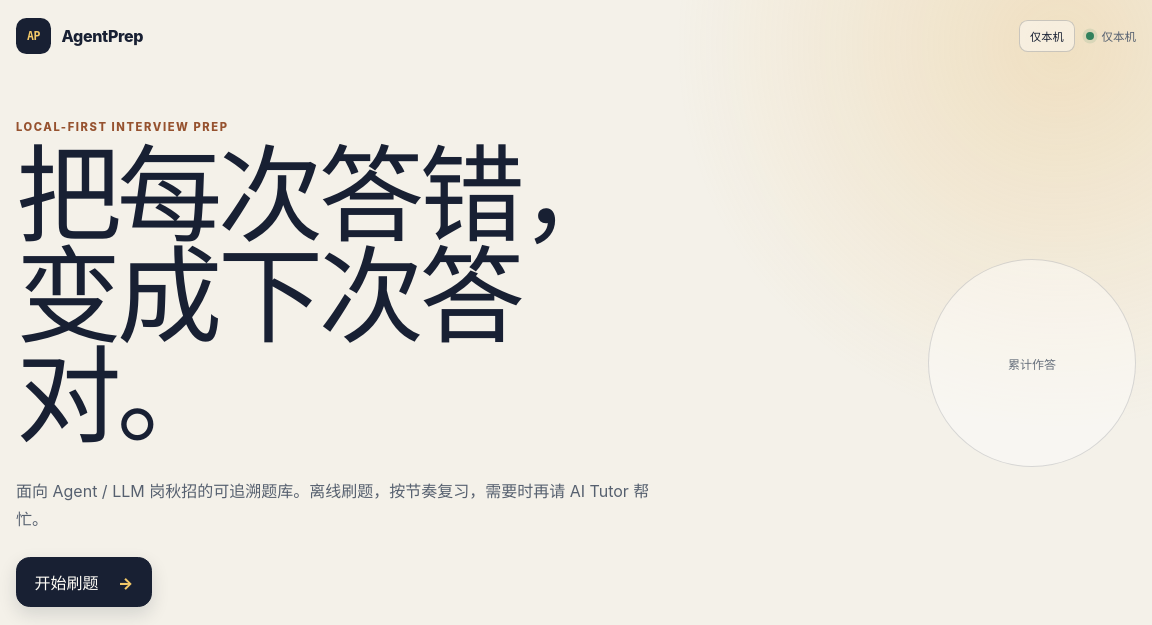
App › uses centralized Chinese taxonomy labels in selection and sessions
Click the button "开始刷题 →" at (84, 582), box [16,556,152,607]
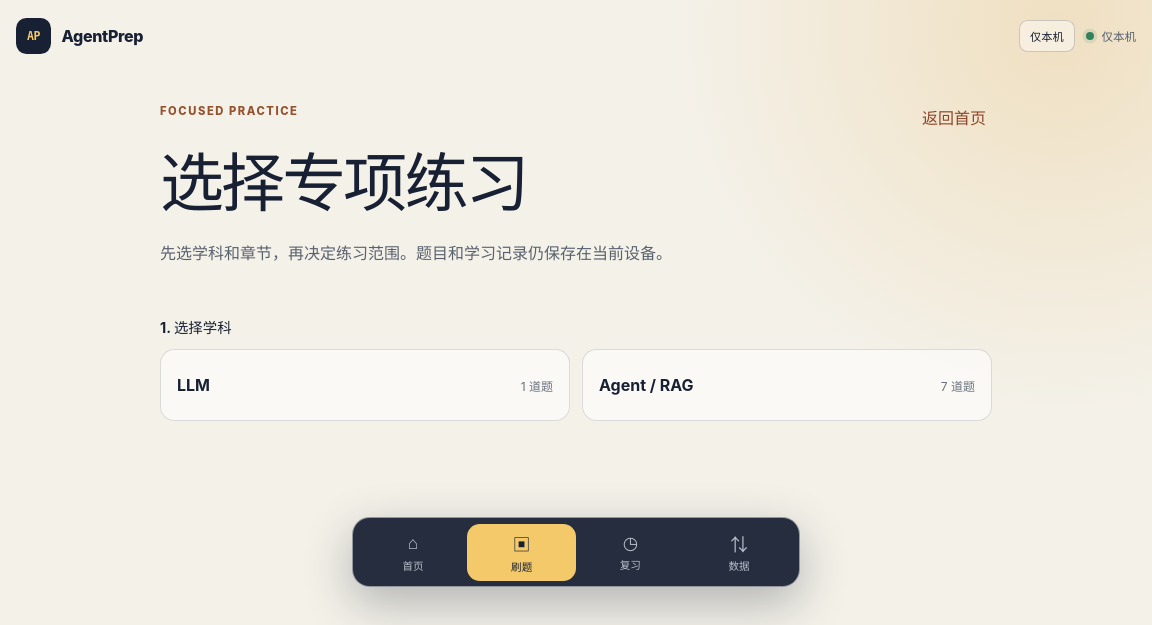
Result: the button "Agent / RAG 7 道题" is shown
Result: the button "LLM 1 道题" is shown at [160,349,570,421]
Click the button "Agent / RAG 7 道题" at (646, 385), box [582,349,992,421]
(page scrolled)
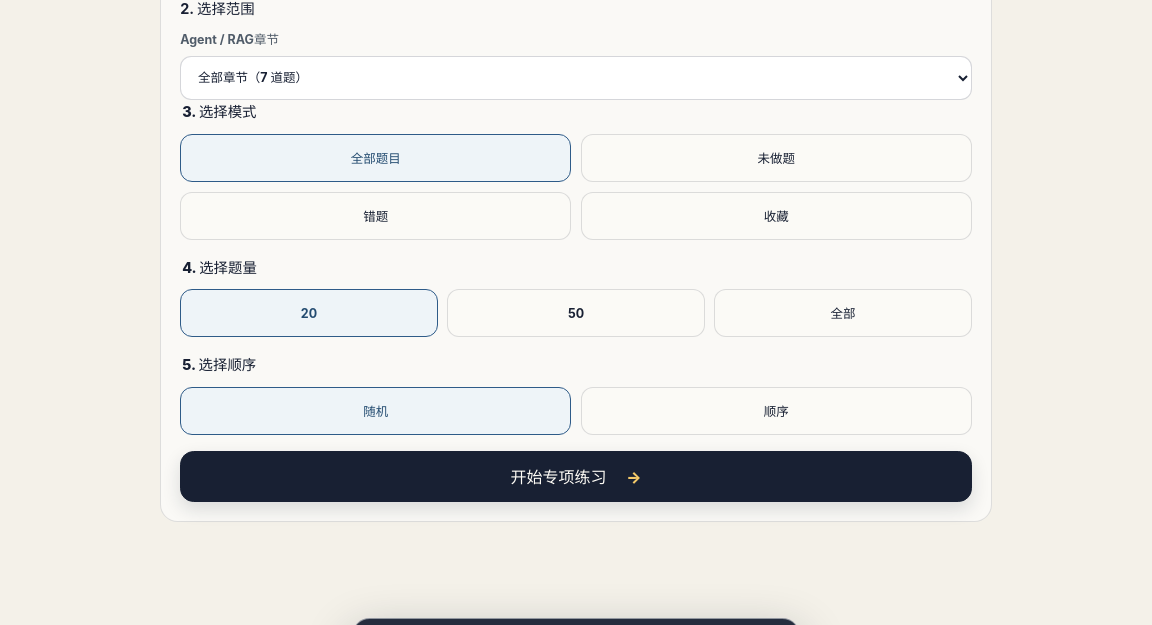
Click the radio button labelled "顺序" at (776, 411), box [581,387,972,435]
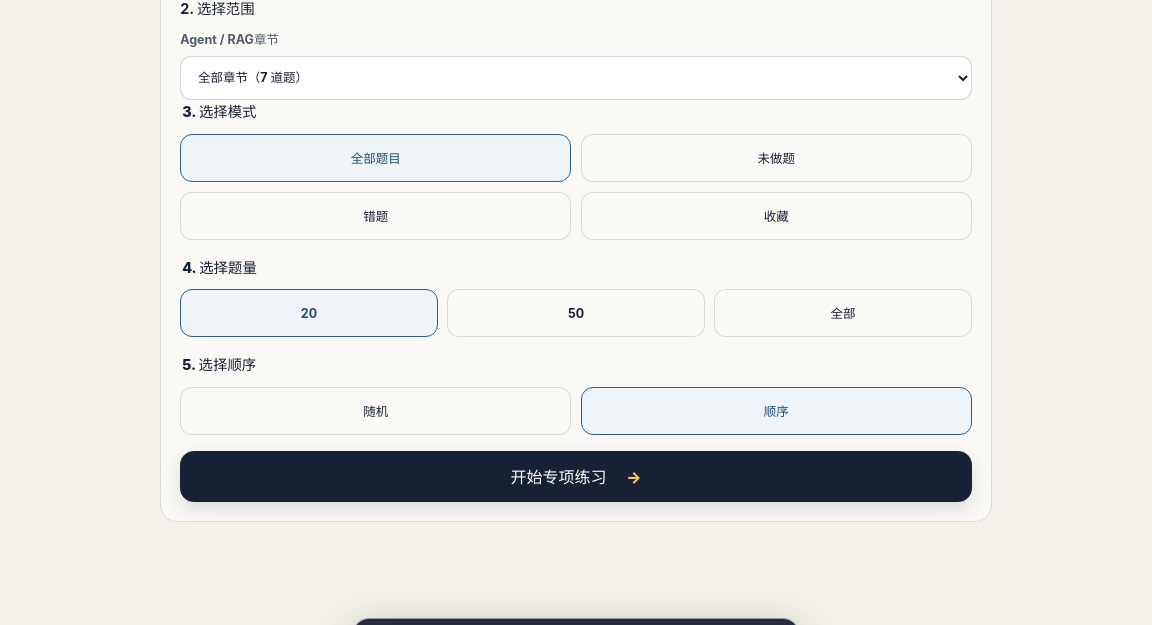
Click the button "开始专项练习 →" at (576, 476), box [180,451,972,502]
(page scrolled)
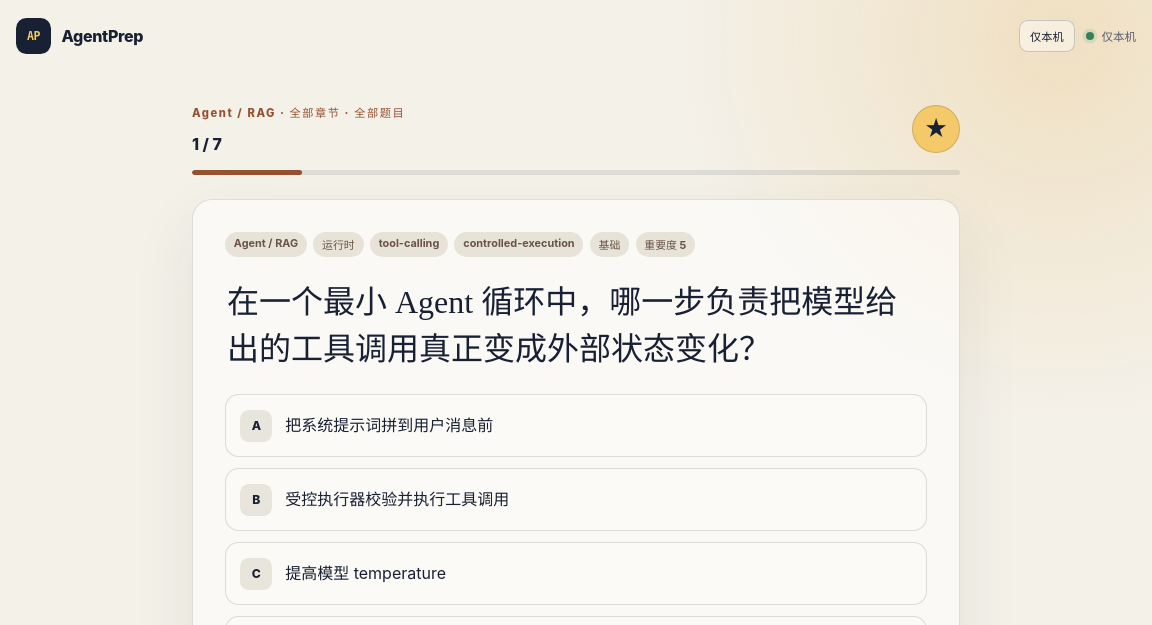
Result: the text "Agent / RAG" is shown at [225,232,307,257]
Result: the text "受控执行器校验并执行工具调用" is shown at [285,489,509,509]
Result: the text "运行时" is shown at [313,232,364,257]
